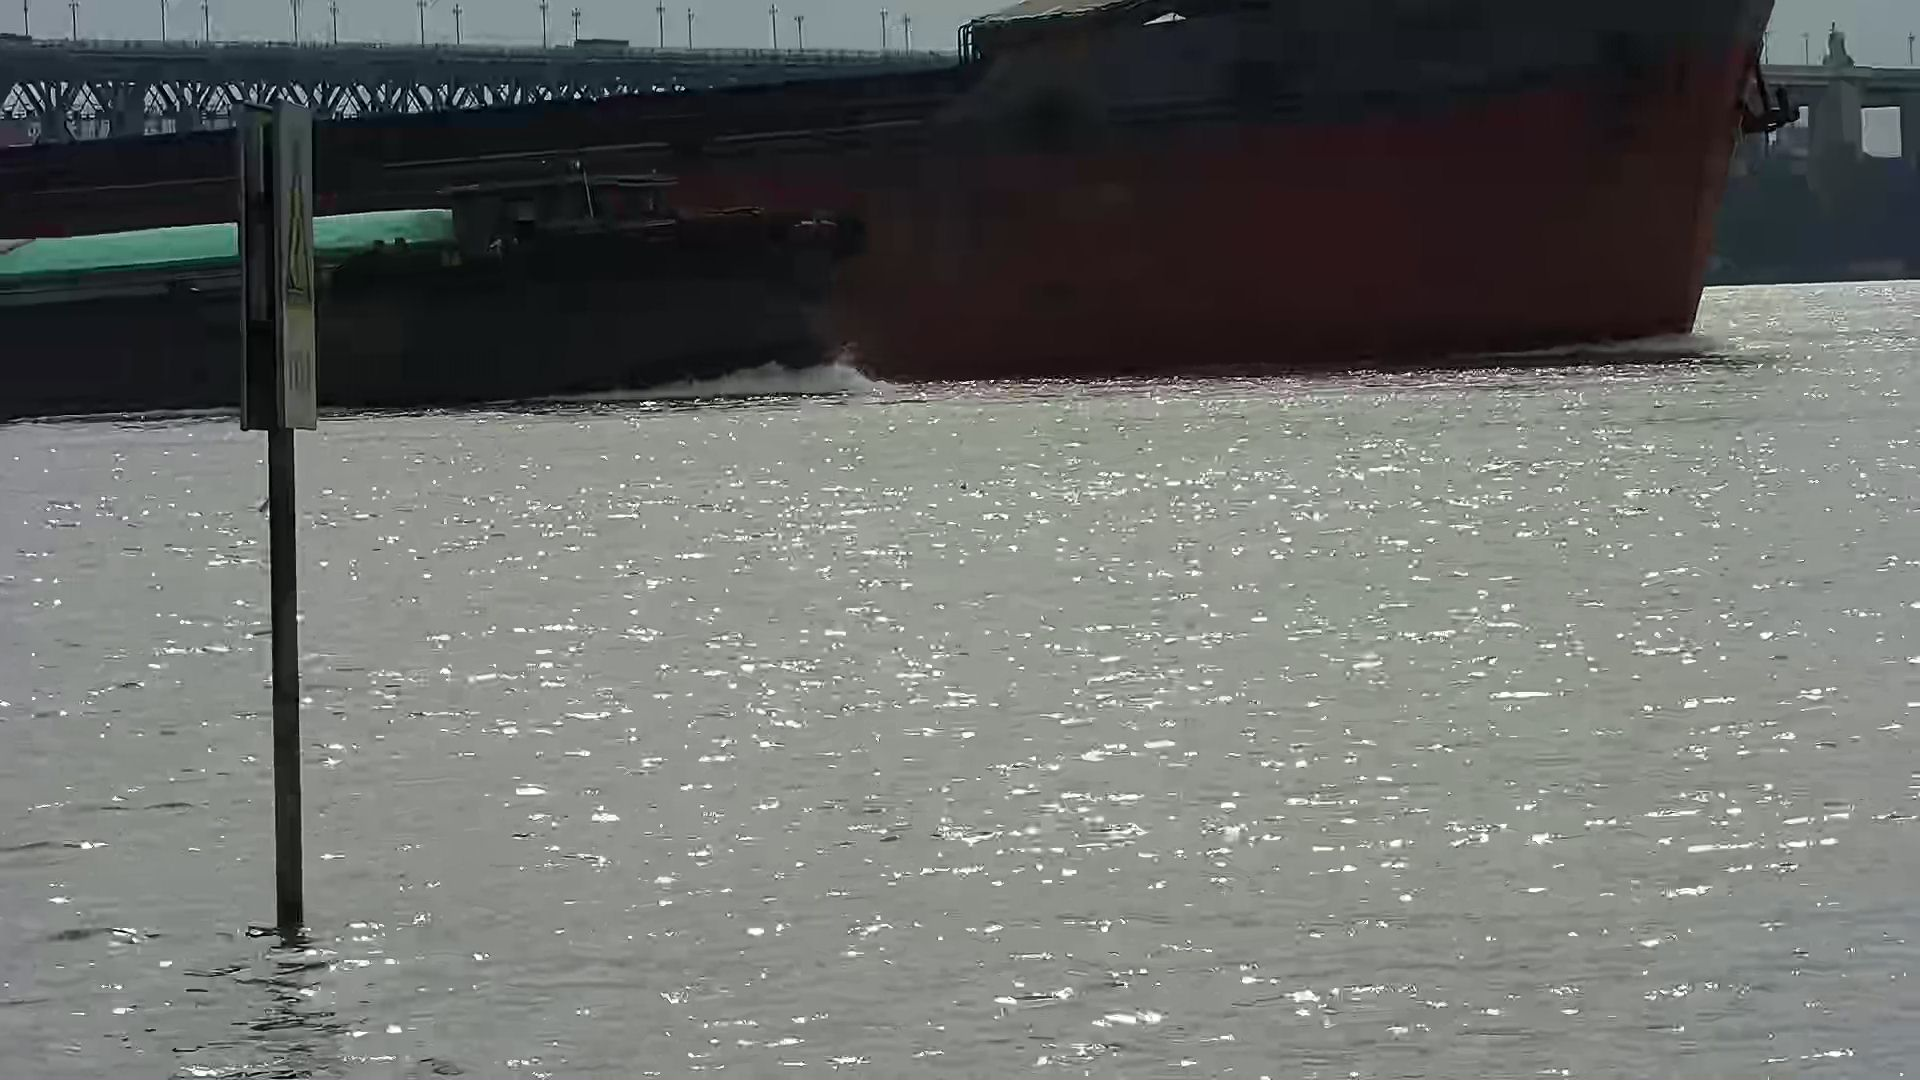bridge: (1, 3, 961, 137)
mast: (237, 103, 323, 923)
ship: (1, 3, 1776, 369), (1, 169, 852, 425)
